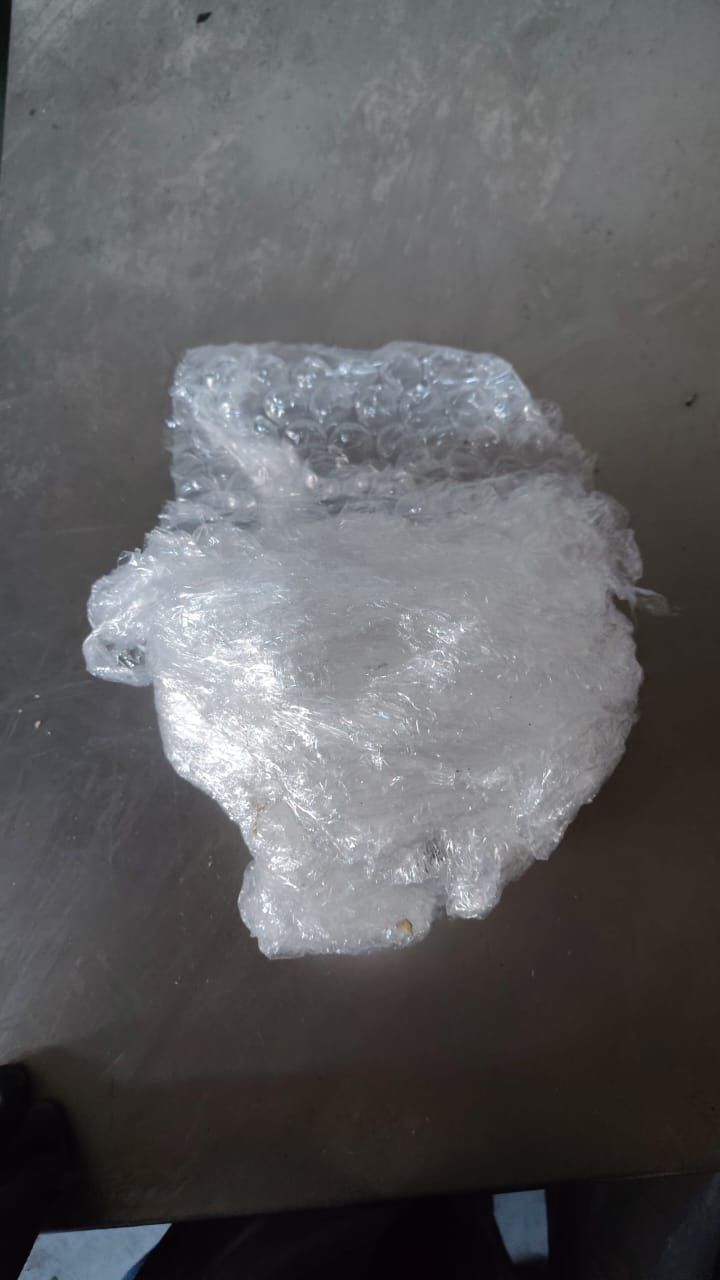Plastico: (84, 343, 646, 964)
